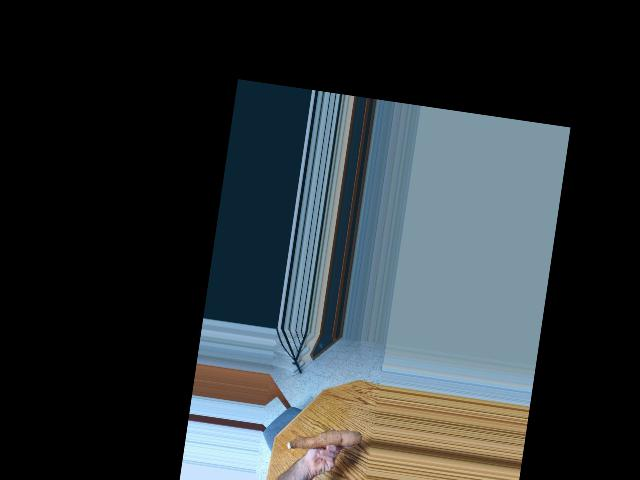sweet_potato: (285, 419, 360, 461)
